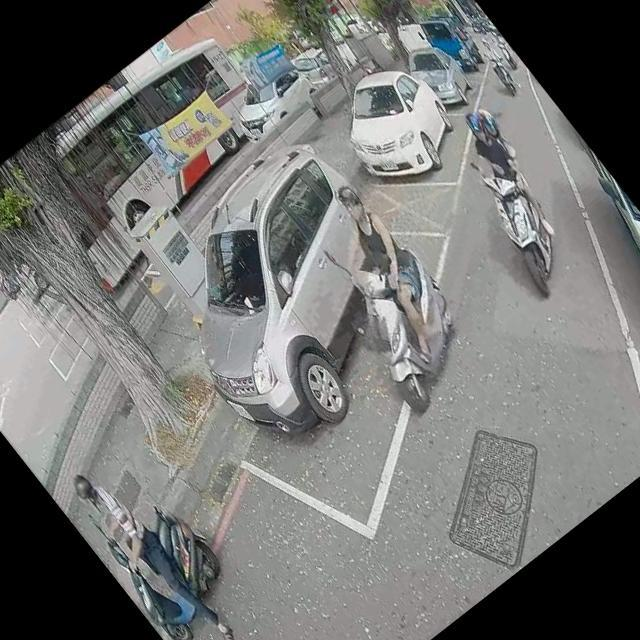person: (61, 454, 240, 640), (295, 174, 466, 366), (444, 104, 570, 253), (454, 103, 569, 235), (477, 36, 522, 92), (0, 260, 17, 293), (486, 28, 508, 53)
